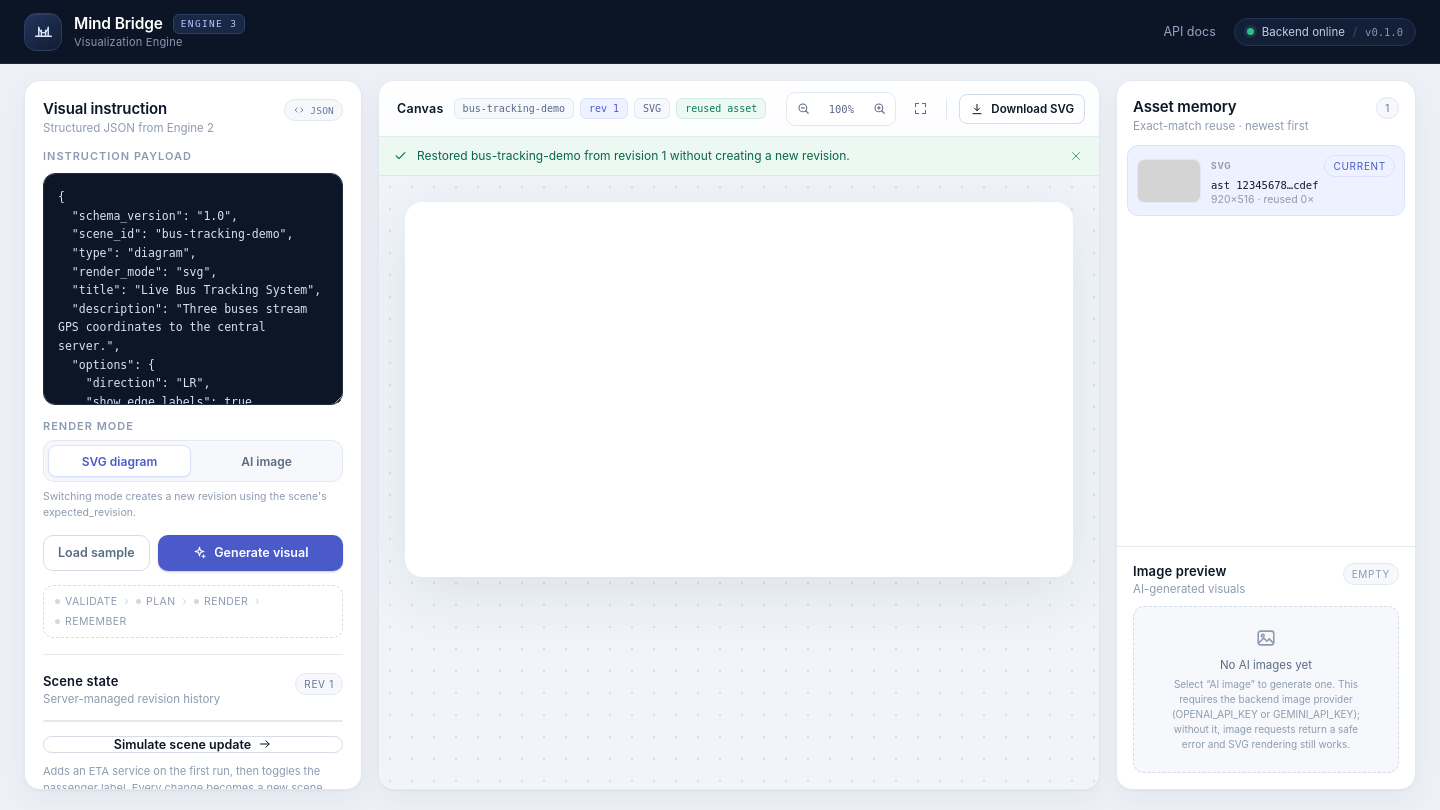
Test: Engine 3 workspace › shows a safe message for provider HTTP 503
Expected: the text "Restored bus-tracking-demo from revision 1" is shown, [417,148,850,163]
What coordinates should you click on to do the following:
click the button "AI image"
I would click on:
 (266, 461)
Its box is [195,445,338,477].
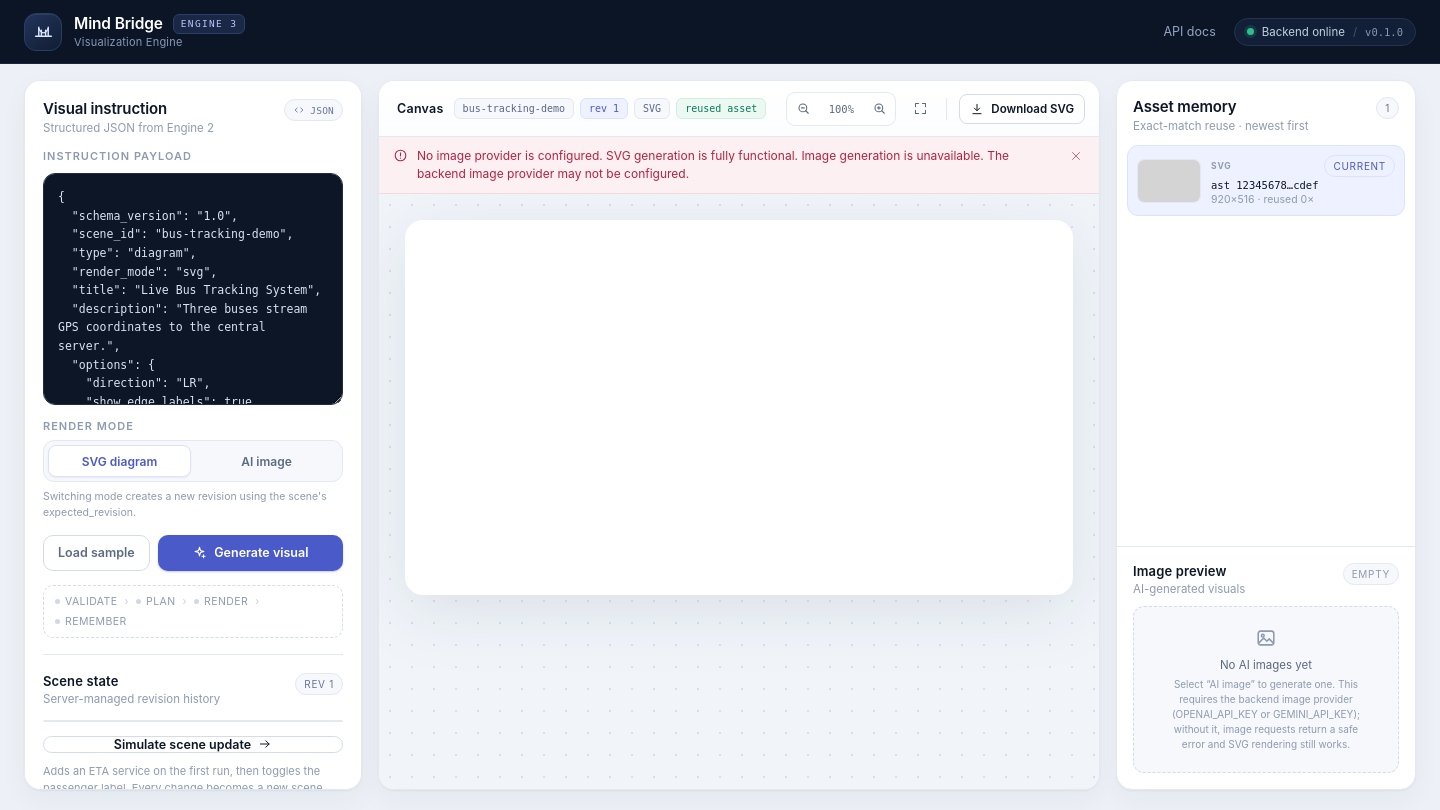
Expected: the icon "Bus 101" is shown, [405,220,1073,595]
Now the message shows "No image provider is configured. SVG generation is fully functional.", box [417,148,1009,181]
